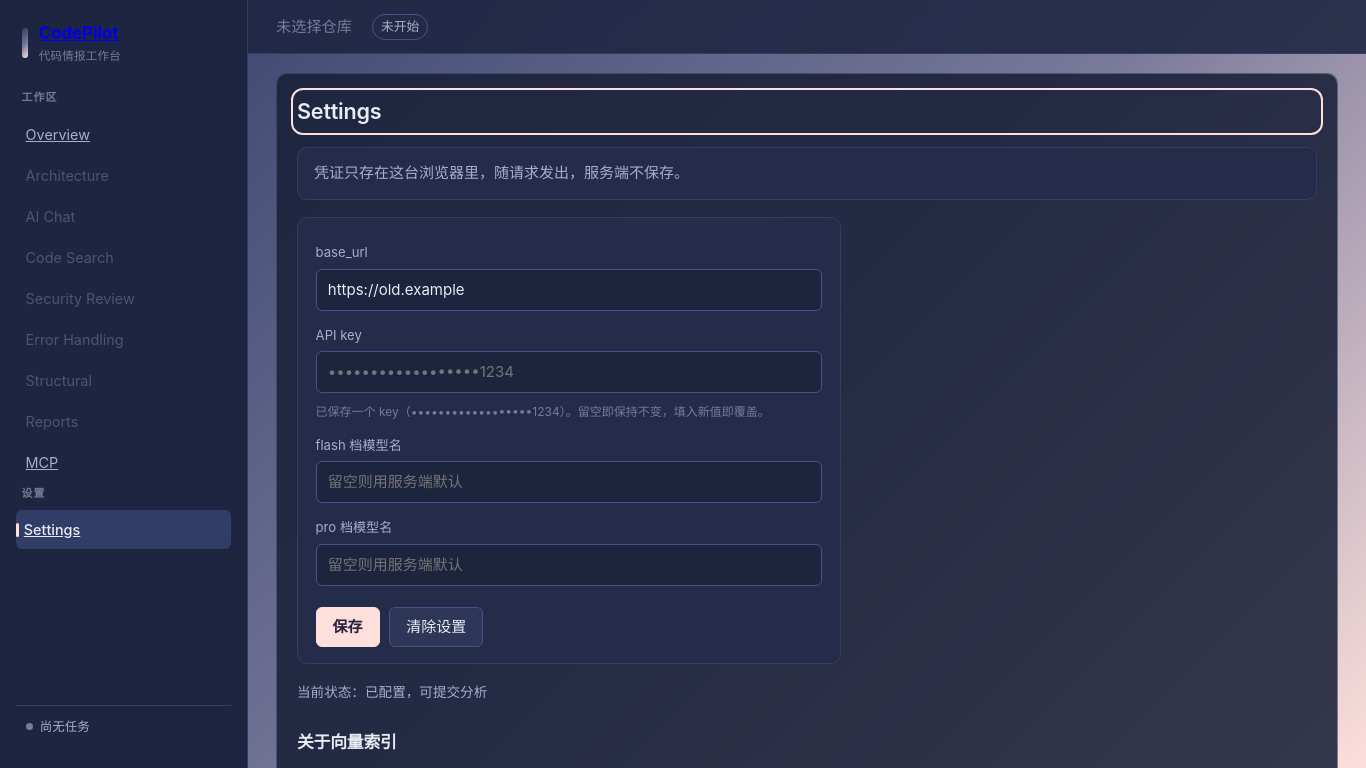
Test case: 保存与清除 › key 输入框留空即保持原值不变
The width and height of the screenshot is (1366, 768).
Replace the text in the field labelled "base_url" with "https://new.example" at (569, 290), box [316,269,822,311]
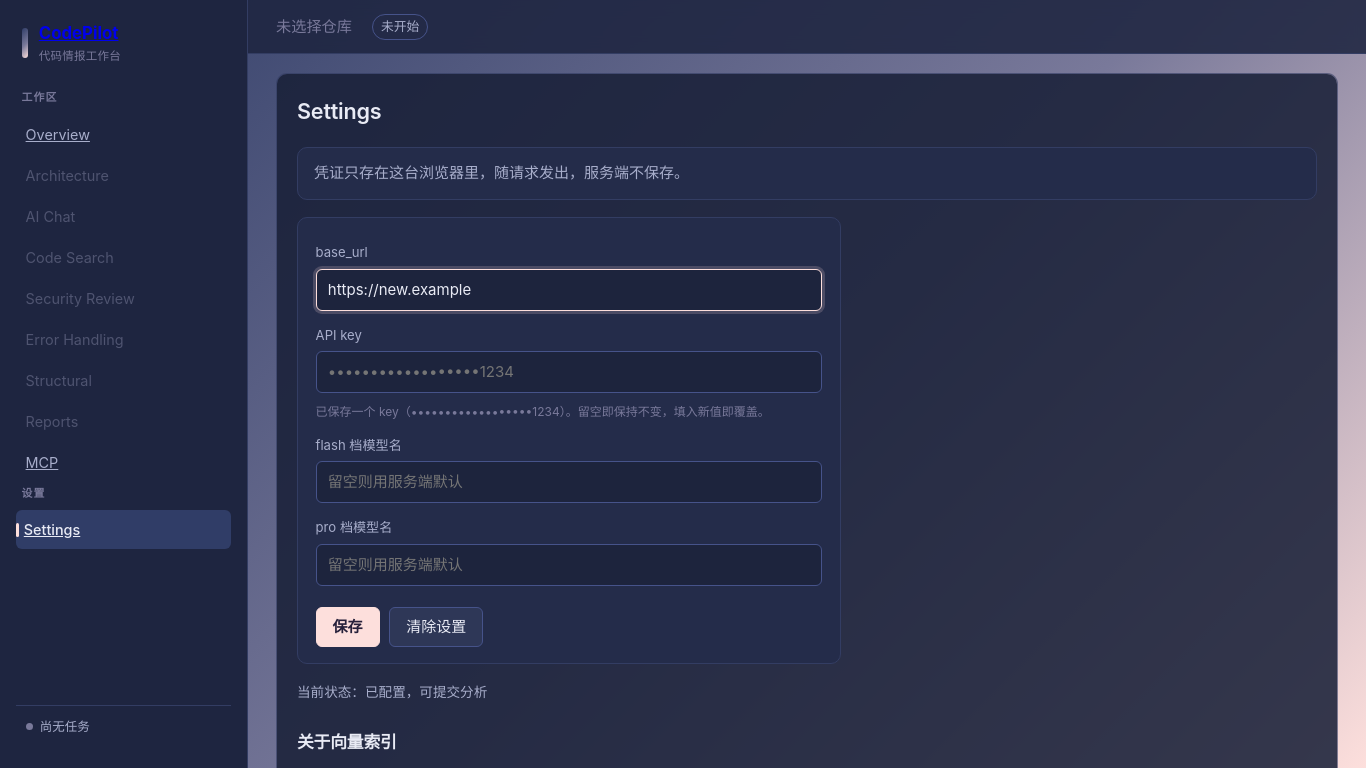
Click the button "保存" at (348, 627), box [316,607,380,648]
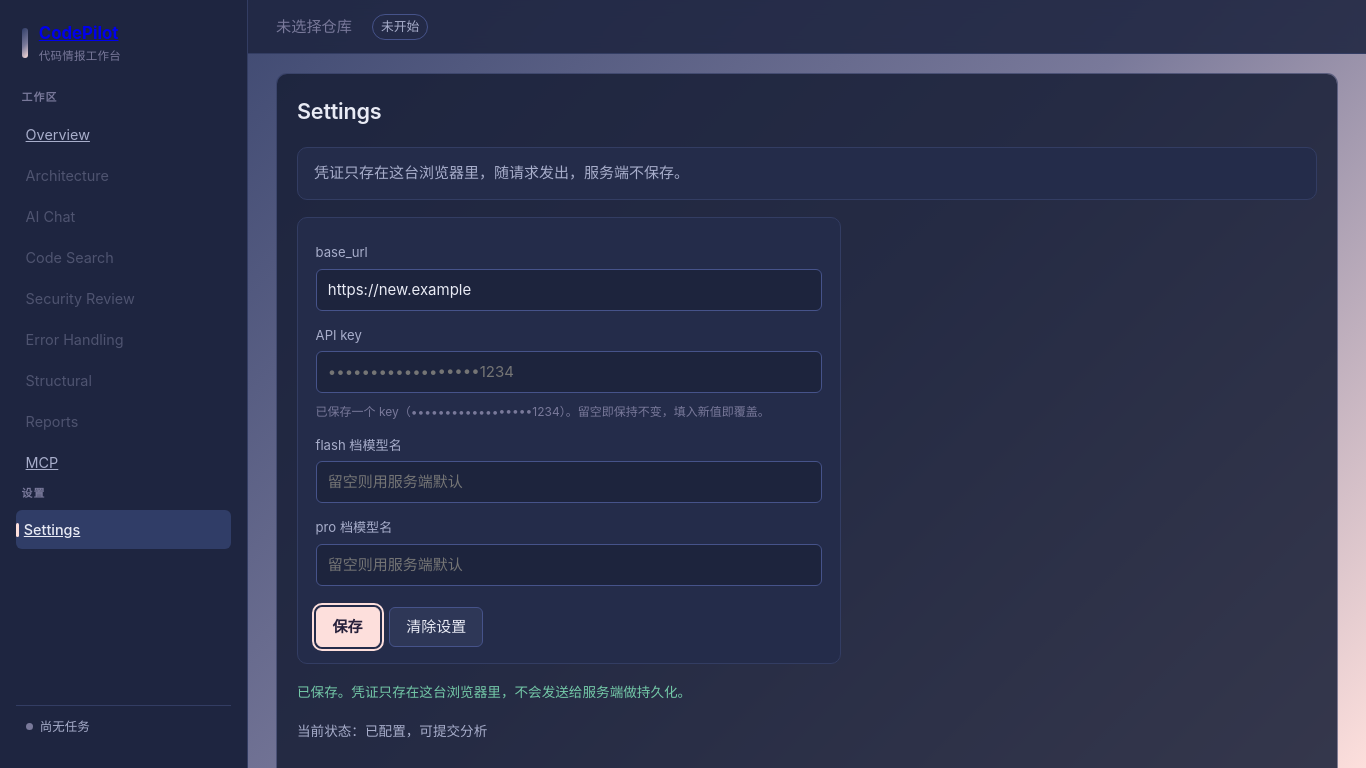
Check: the text "已保存。凭证只存在这台浏览器里，不会发送给服务端做持久化。" is shown, box [297,684,691,700]
